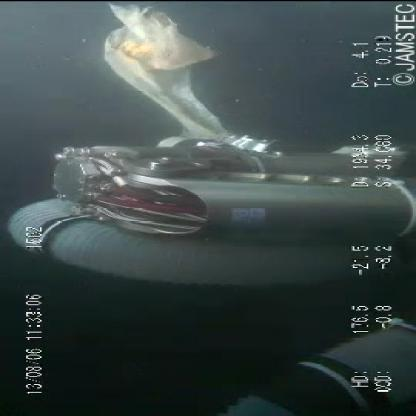Rov: (1, 129, 414, 415)
Rác: (103, 1, 259, 129)
